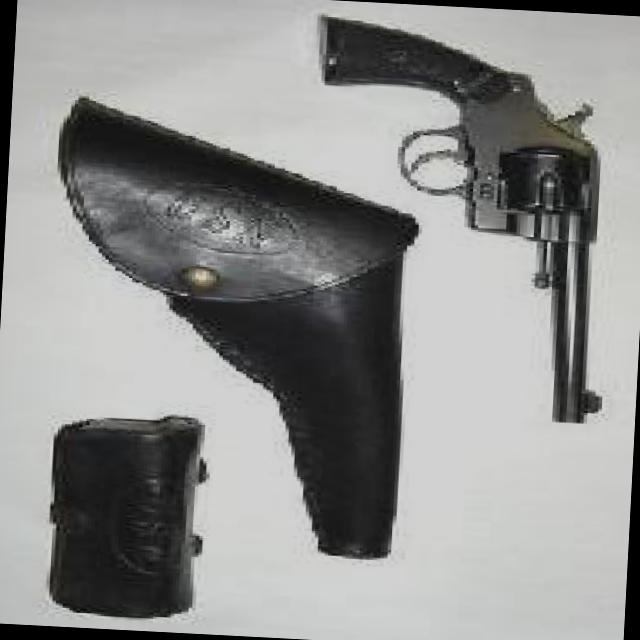handgun: (307, 13, 631, 422)
